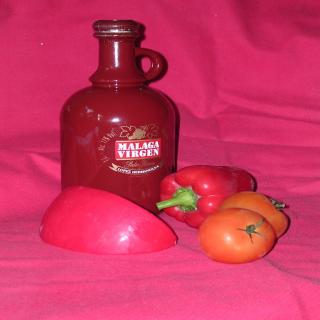tomato: (194, 208, 278, 267), (217, 190, 287, 247)
